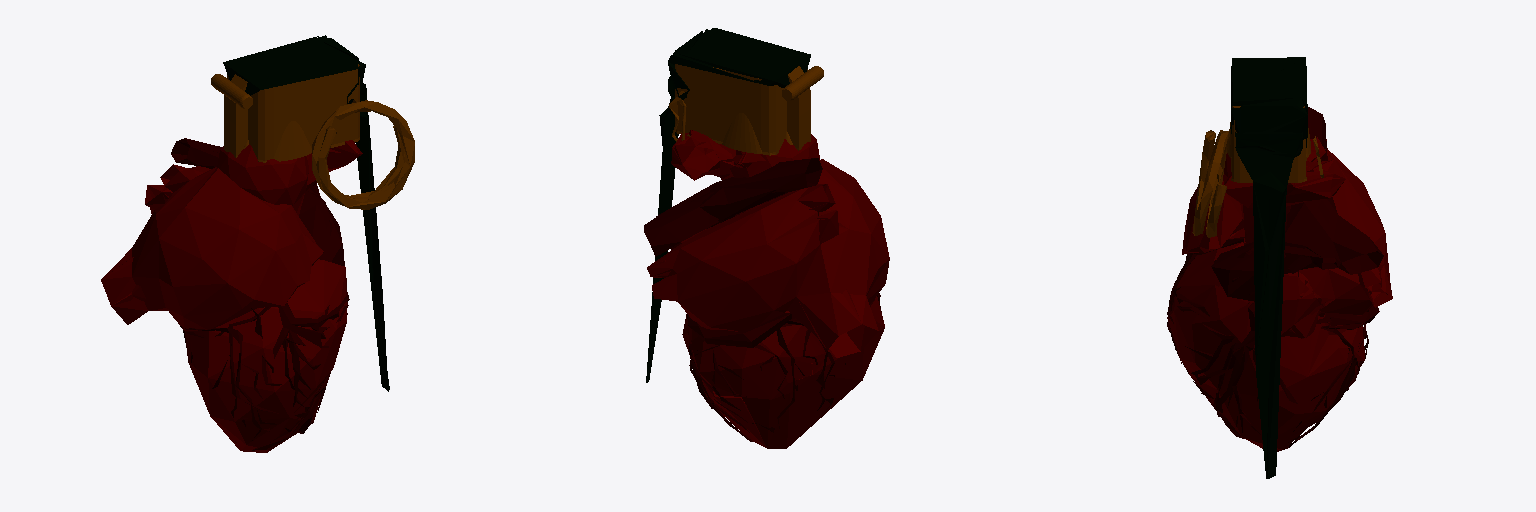
The model's file is heartbomb.obj.
The picture shows the model from 3 angles: view 1: azimuth 30°, elevation 25°; view 2: azimuth 150°, elevation 25°; view 3: azimuth 270°, elevation 25°; orthographic projection.
Visible parts, largest first — view 1: Pin_Pin; view 2: Pin_Pin; view 3: Pin_Pin.
Part boxes in pixels (x1,y1,x2,y2): Pin_Pin: (101, 35, 414, 452); Pin_Pin: (644, 28, 889, 448); Pin_Pin: (1167, 57, 1392, 478).
Size of the model in its own units: 3.12 by 4.49 by 2.38.